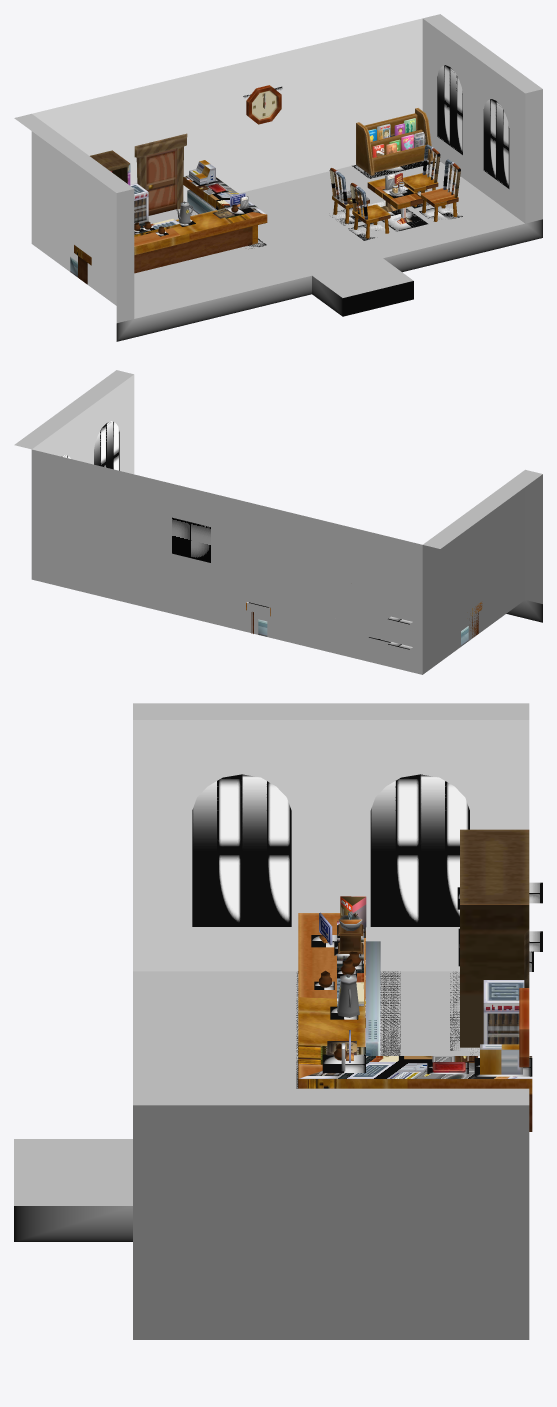
File: idr_cafe.dae
The picture shows the model from 3 angles, top to bottom: view 1: azimuth 30°, elevation 25°; view 2: azimuth 150°, elevation 25°; view 3: azimuth 270°, elevation 25°; orthographic projection. The views are drawn at different scales.
Parts seen in each view (by area): view 1: idr_cafe (×8); view 2: idr_cafe (×5); view 3: idr_cafe (×8).
Part boxes in pixels (x1,y1,x2,y2): idr_cafe (×8): (14,14,542,341); idr_cafe (×5): (14,370,542,674); idr_cafe (×8): (14,703,542,1339).
Size of the model in its own units: 384 by 128 by 214.
